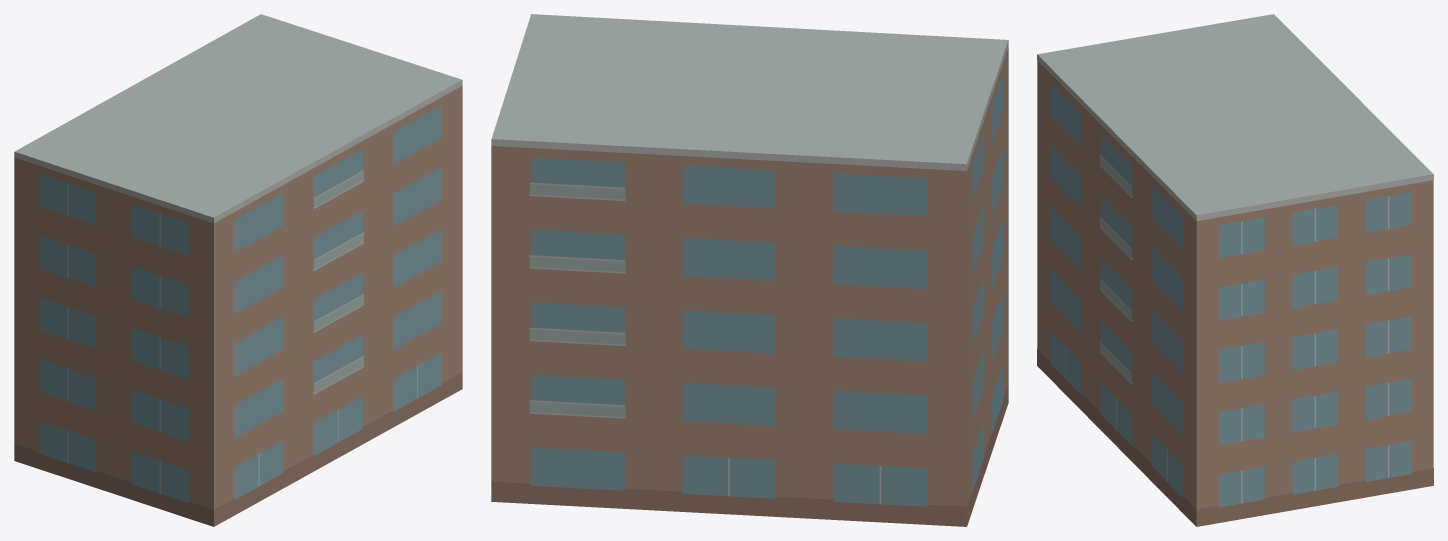
The model's file is survey-upis-32593582.glb.
3 renders of one model, left to right at view 1: azimuth 30°, elevation 25°; view 2: azimuth 150°, elevation 25°; view 3: azimuth 270°, elevation 25°, orthographic. The views are drawn at different scales.
Parts seen in each view (by area): view 1: survey-upis-32593582.tmp; view 2: survey-upis-32593582.tmp; view 3: survey-upis-32593582.tmp.
Boxes of the visible parts, bbox=[...] form: survey-upis-32593582.tmp: bbox=[14, 14, 462, 526]; survey-upis-32593582.tmp: bbox=[491, 14, 1008, 526]; survey-upis-32593582.tmp: bbox=[1037, 14, 1433, 526].
Bounding box in the file's own units: 18.04 × 13 × 15.02.
